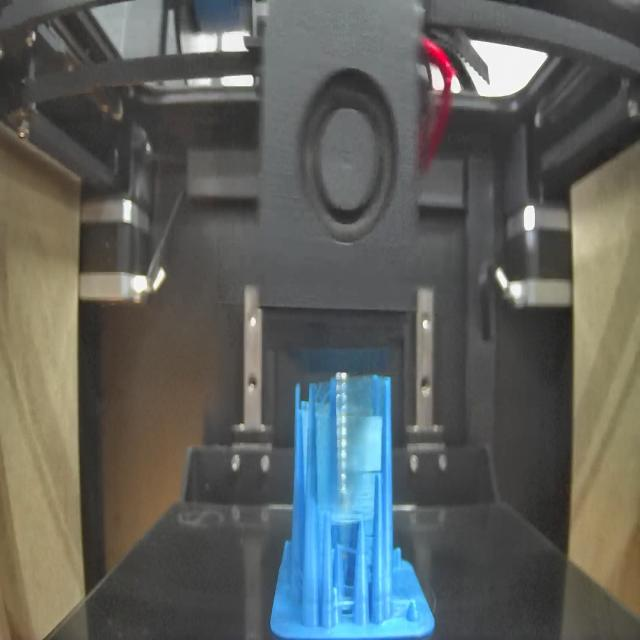stringing: (316, 374, 384, 524), (333, 541, 357, 627), (391, 592, 418, 620)
